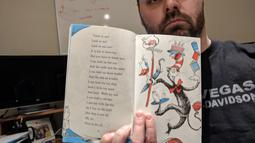text block: (84, 30, 127, 128)
